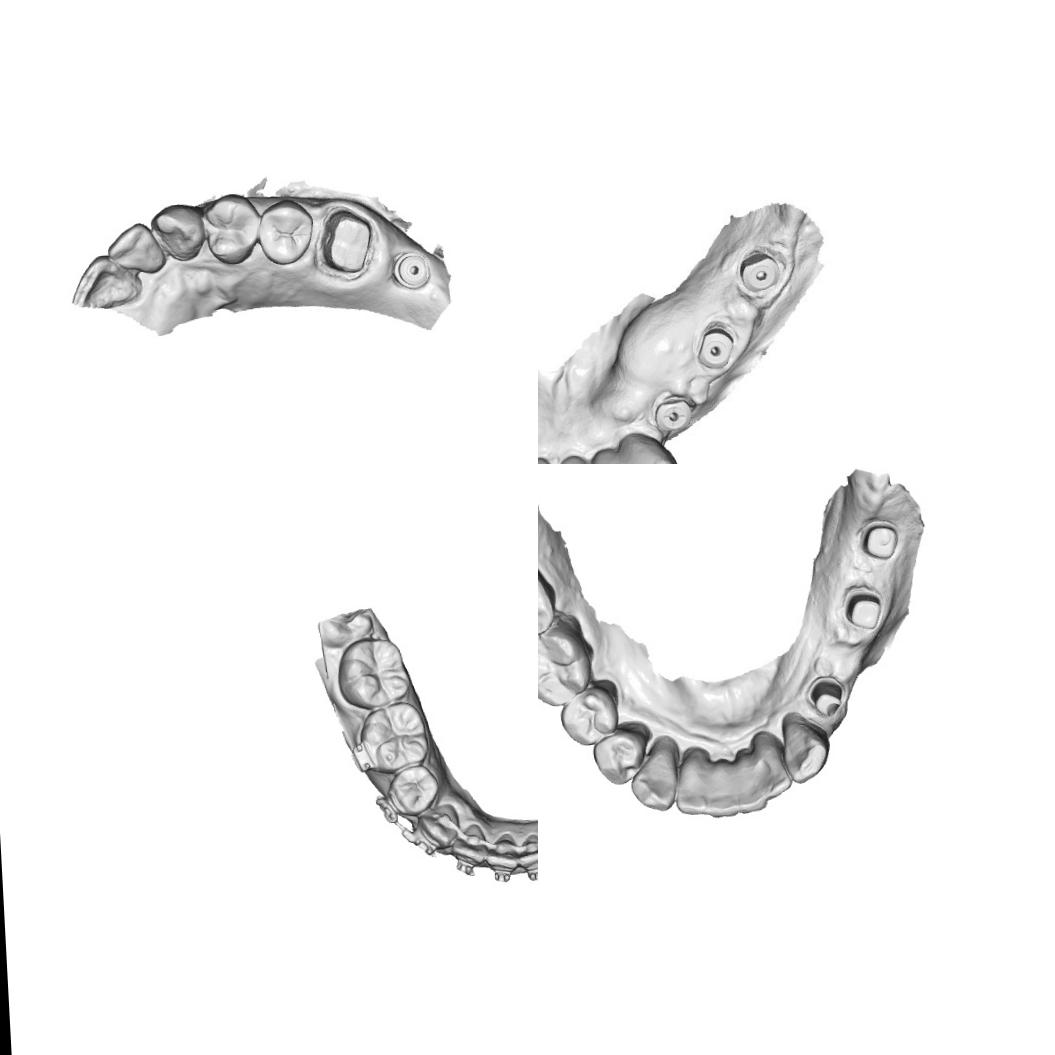abutment: (838, 582, 888, 633), (856, 516, 902, 562), (803, 673, 847, 718)
canine: (779, 708, 833, 785), (628, 736, 680, 812), (148, 200, 206, 264), (414, 801, 460, 853), (618, 429, 681, 464)
crown: (314, 202, 378, 282)
implant: (691, 320, 740, 376), (736, 244, 782, 299), (390, 249, 430, 290)
implant_plus: (646, 385, 697, 441)
incisor: (68, 251, 134, 310), (103, 218, 166, 276), (751, 730, 794, 800), (672, 744, 708, 816), (732, 747, 768, 814), (702, 756, 738, 820), (449, 820, 489, 873), (483, 828, 519, 874), (515, 828, 538, 873)
molar: (334, 634, 412, 711), (356, 699, 430, 776), (538, 614, 596, 707), (538, 556, 558, 644)
premolar: (588, 717, 652, 787), (202, 190, 260, 266), (558, 680, 622, 747), (255, 198, 316, 267), (388, 762, 442, 817)
